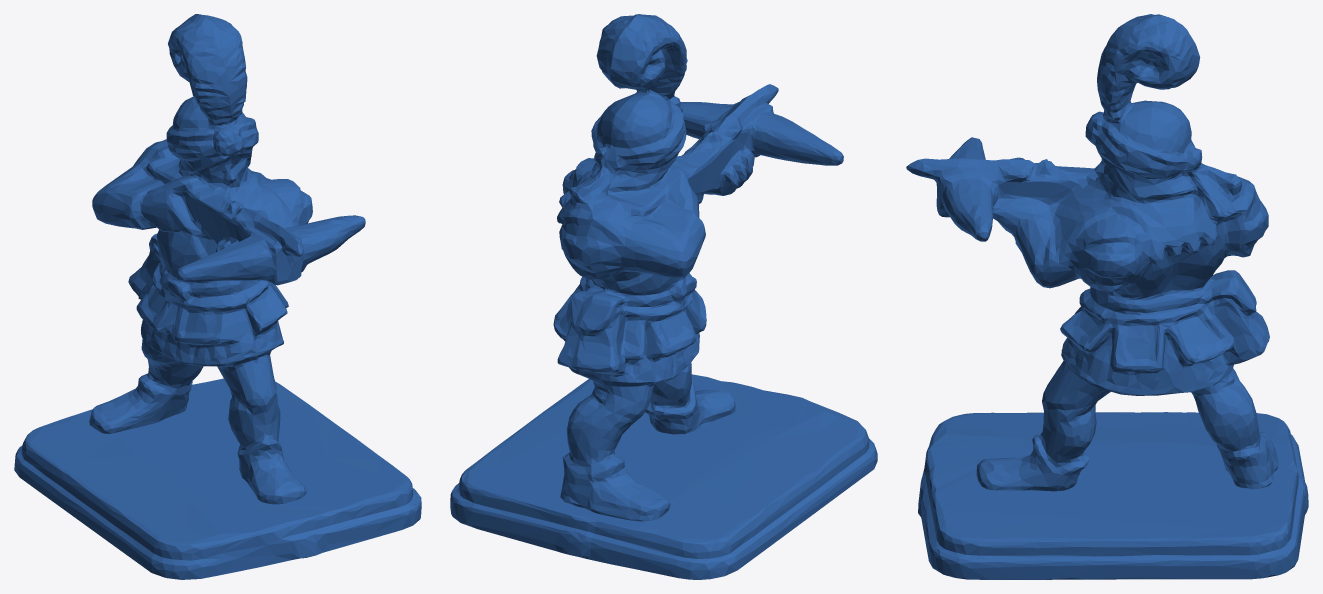
File: crossbowman.glb
The picture shows the model from 3 angles, left to right: view 1: azimuth 30°, elevation 25°; view 2: azimuth 150°, elevation 25°; view 3: azimuth 270°, elevation 25°; orthographic projection. The views are drawn at different scales.
Parts seen in each view (by area): view 1: Crossbowmen_Imperial_Army; view 2: Crossbowmen_Imperial_Army; view 3: Crossbowmen_Imperial_Army.
Part boxes in pixels (x1,y1,x2,y2): Crossbowmen_Imperial_Army: [14, 14, 421, 579]; Crossbowmen_Imperial_Army: [450, 14, 877, 579]; Crossbowmen_Imperial_Army: [906, 14, 1308, 579].
Size of the model in its own units: 12.77 by 20.87 by 15.33.
